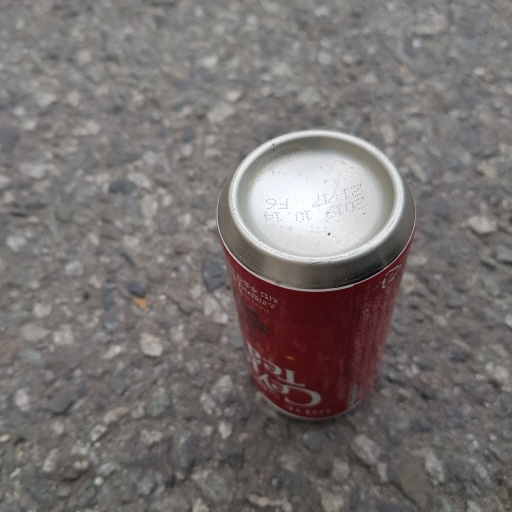Metal_0: (214, 126, 417, 423)
